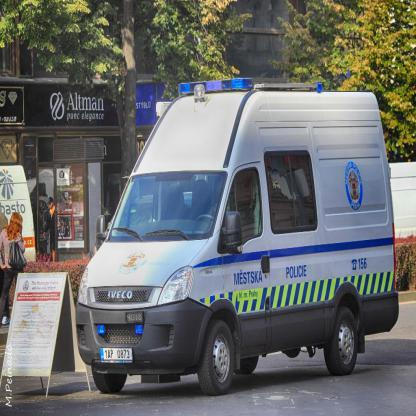Ambulance - v1 Ambulance last generate: (75, 78, 399, 396)
